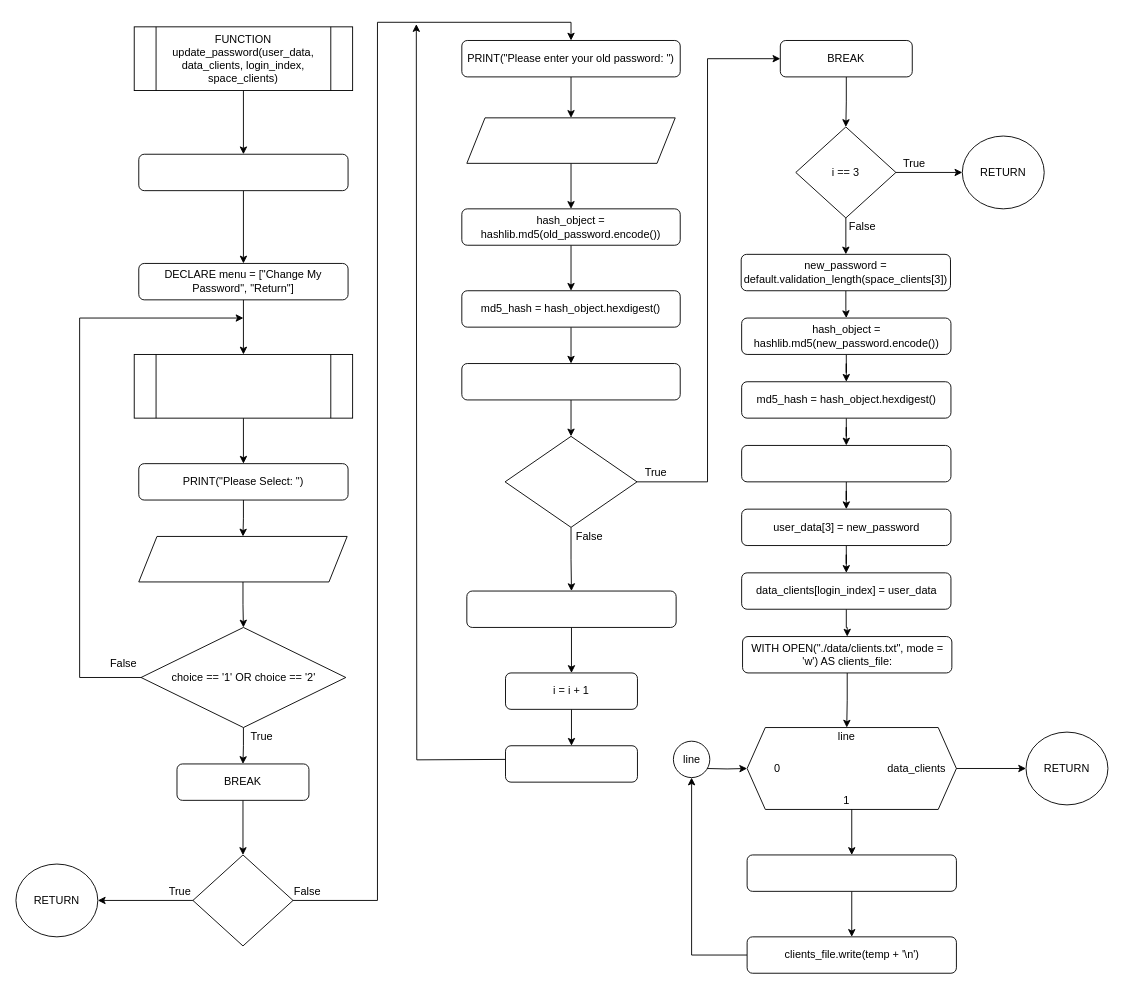
Some shapes in this 1124 by 989 pixel diagram are drawn without their labels. Here are the shapes that lost their labels. From the top down, the centre of each, then its label:
(570,140): READ old_password
(243,172): title = user_data[2] + ", change your password here."
(243,386): default.general_menu(menu)
(570,381): old_password = md5_hash
(570,481): old_password == user_data[3]
(846,463): new_password = md5_hash
(242,559): READ choice
(571,608): PRINT(str(3-i-1) + " attempts are left.")
(571,763): PRINT("")
(851,872): temp = ",".join(line)
(242,900): choice == '2'
